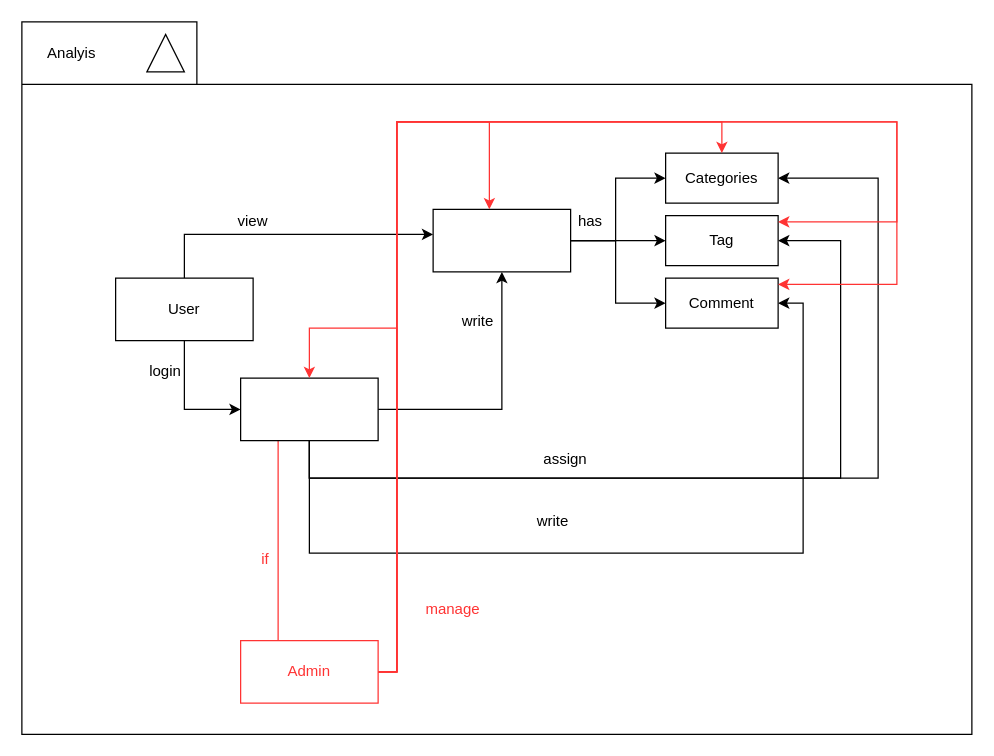
The diagram is 994 pixels wide and 756 high, and some of its shapes have lost their labels. The shapes that lost their labels are listed below. From the top down, each one's centre as x and y in pixels, then its label:
point (501, 240): Post
point (308, 409): RegistredUser
